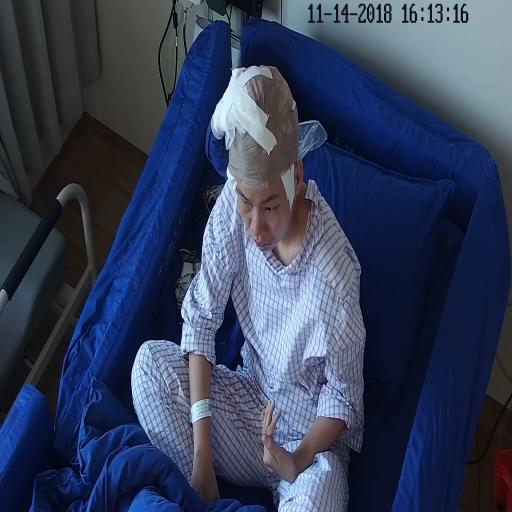Seizure: (226, 118, 301, 258)
